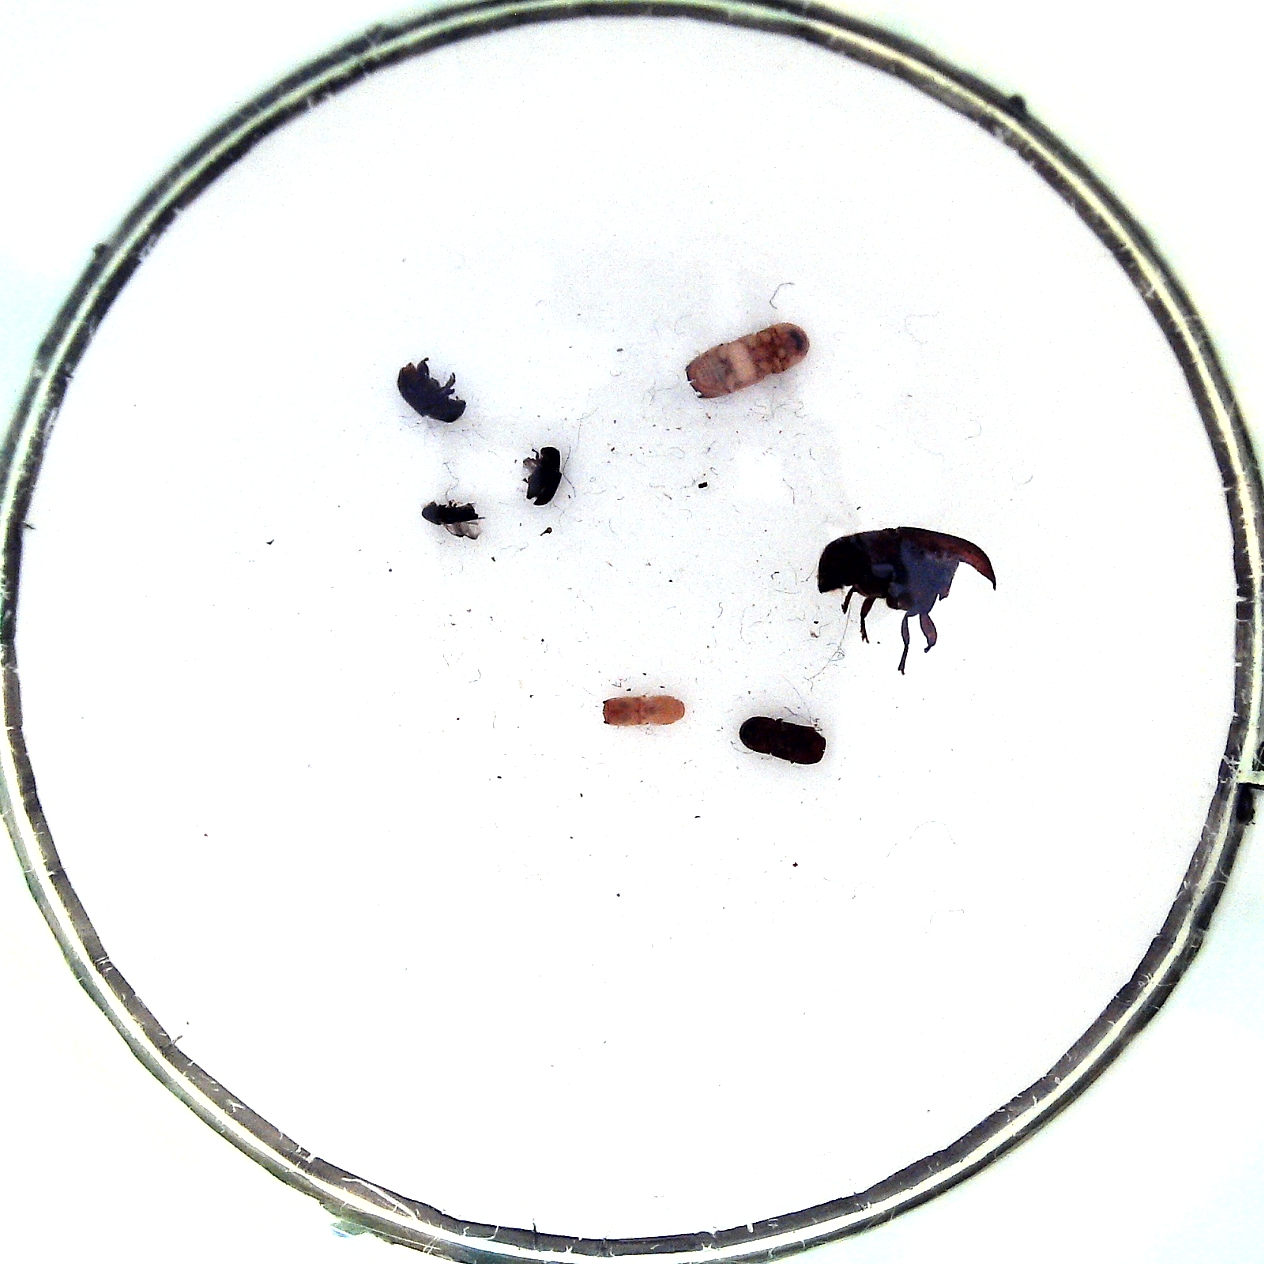Boerner: (686, 322, 809, 400)
Leconte: (818, 526, 978, 616)
acuminatus: (422, 501, 482, 526)
armandi: (398, 363, 466, 422)
coleoptera: (527, 447, 563, 504)
linnaeus: (738, 715, 826, 764), (602, 695, 685, 725)
